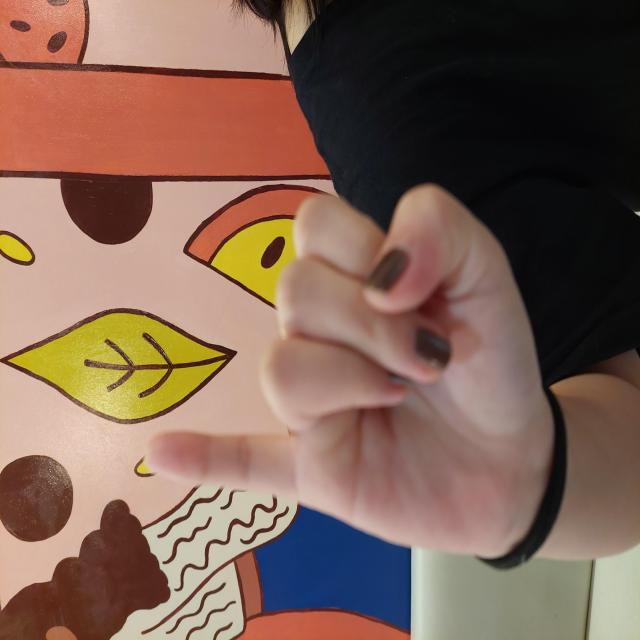I: (84, 142, 459, 544)
